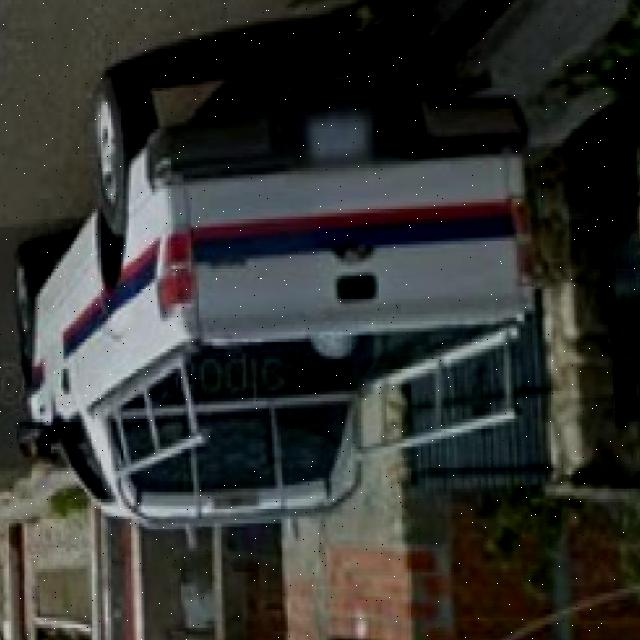car: (2, 39, 527, 548)
